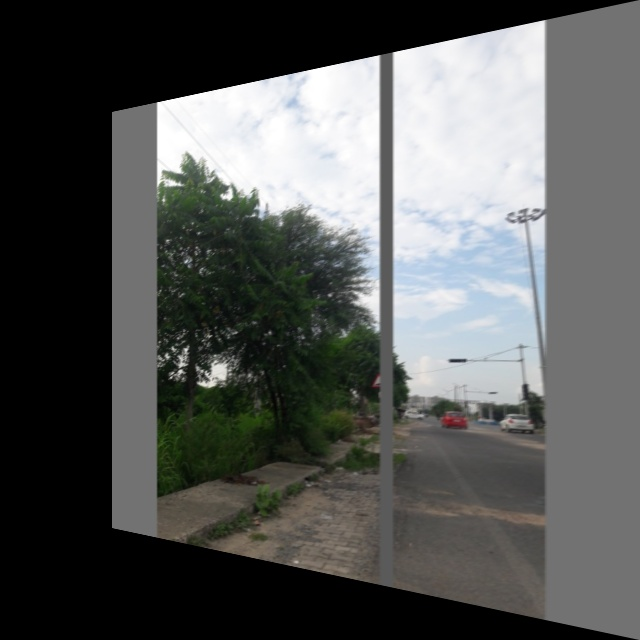Hump_or_Rough_Road: (368, 366, 389, 393)
